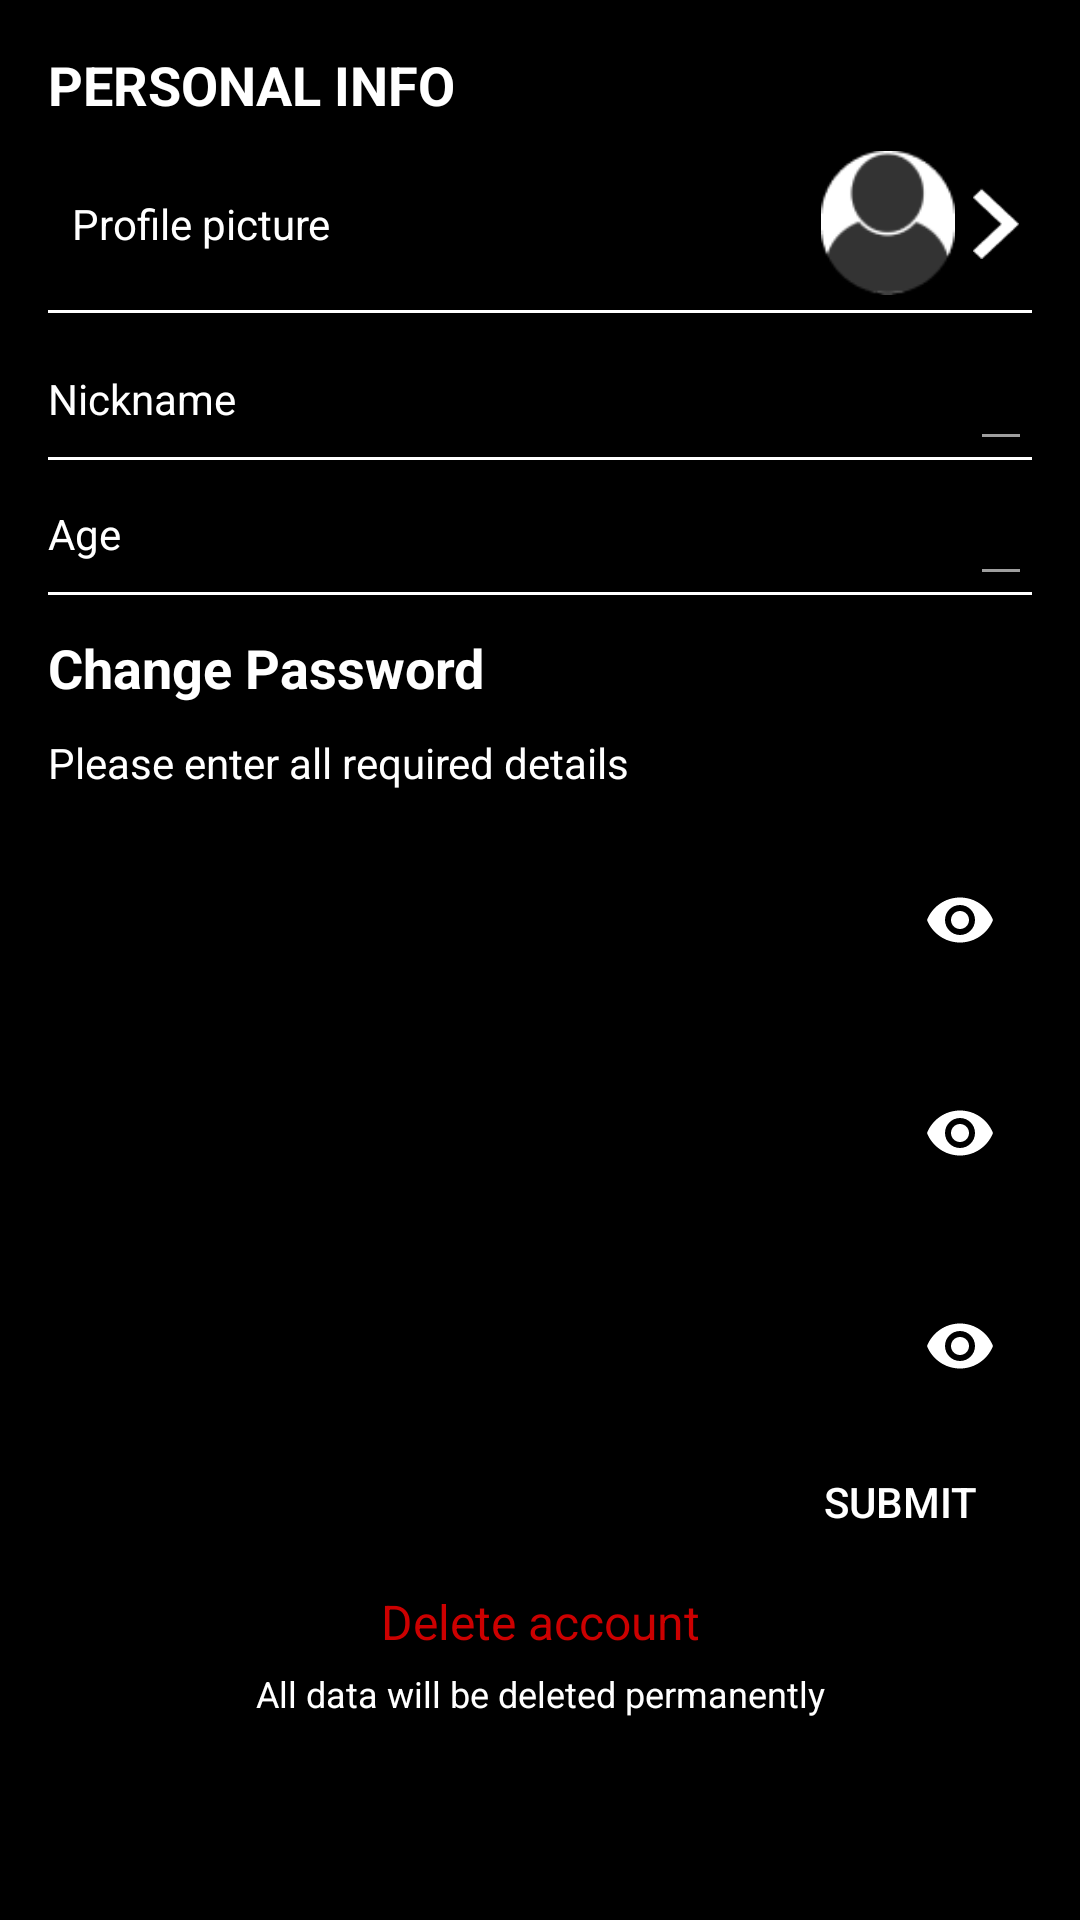

Icons on this 1080px x 1920px Android screen, each with its box as (x1, y1, x2, y2):
Navigation Arrow: (973, 189, 1019, 259)
Profile Picture: (821, 151, 955, 295)
